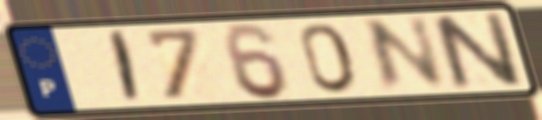0: (297, 21, 360, 95)
6: (220, 20, 292, 102)
7: (143, 25, 207, 103)
I: (108, 28, 144, 106)
N: (426, 9, 528, 93), (361, 14, 451, 96)
